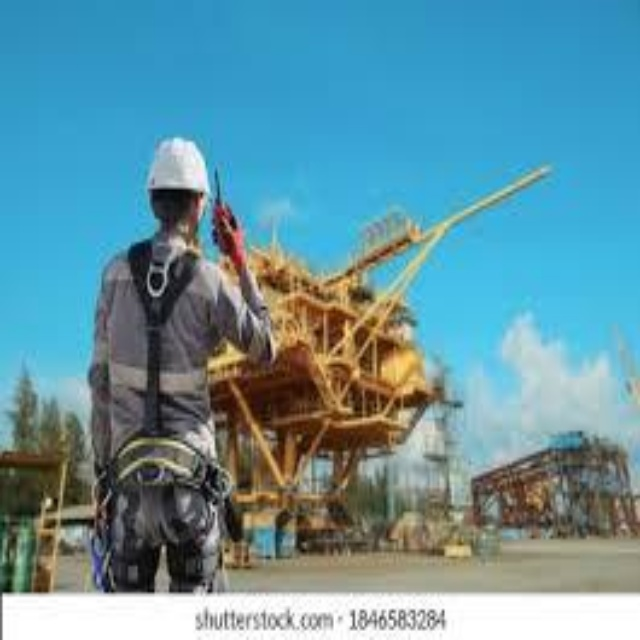Arnes_seguridad: (92, 234, 233, 567)
